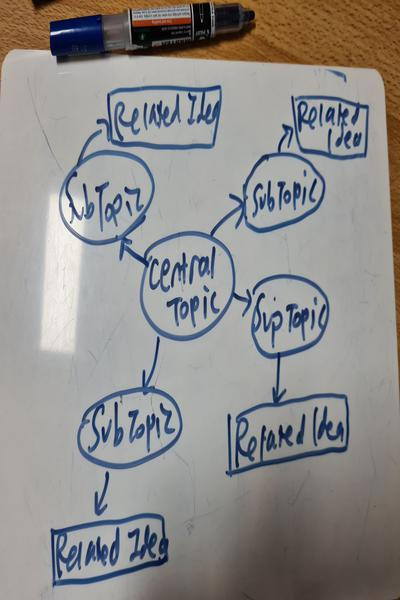arrow: (212, 193, 245, 241), (76, 118, 111, 158), (142, 328, 161, 393), (119, 236, 147, 268), (94, 466, 111, 516), (271, 352, 286, 404), (277, 123, 296, 155), (234, 289, 249, 317)
idea: (226, 394, 350, 474), (51, 514, 167, 585), (107, 86, 223, 150), (291, 94, 370, 161)
topic: (141, 230, 235, 341), (56, 151, 156, 246), (76, 386, 183, 469), (245, 152, 325, 231), (252, 274, 327, 357)
